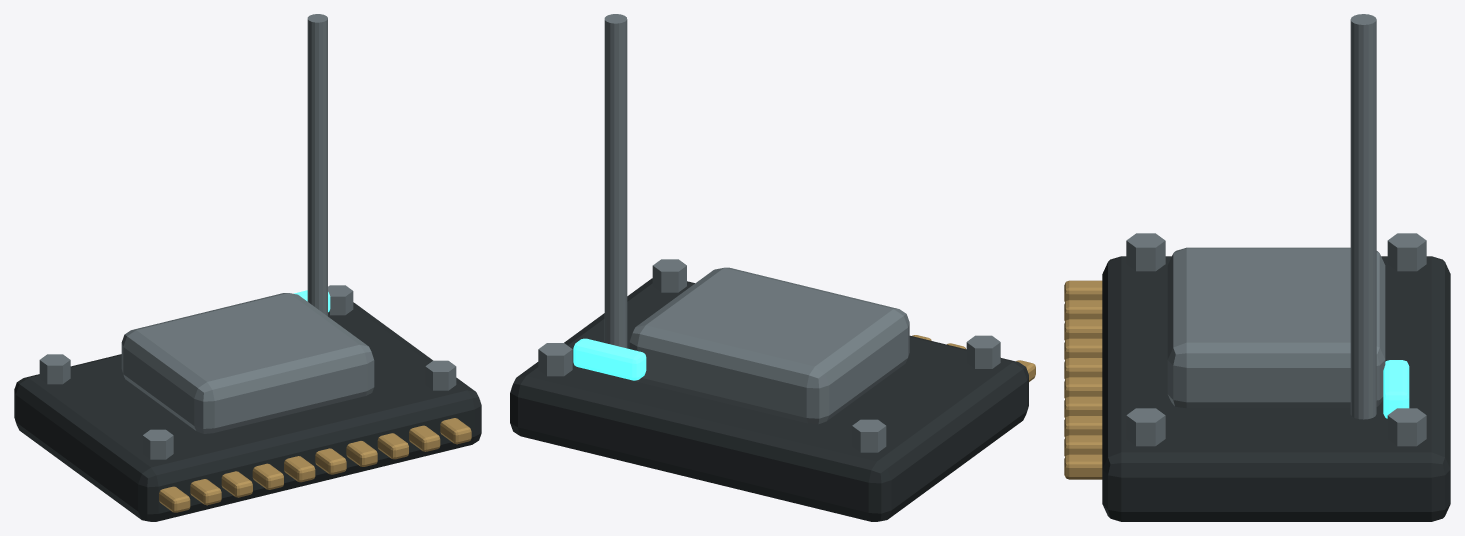
File: internal_comm_module.glb
3 renders of one model, left to right at view 1: azimuth 30°, elevation 25°; view 2: azimuth 150°, elevation 25°; view 3: azimuth 270°, elevation 25°, orthographic. The views are drawn at different scales.
Visible parts, largest first — view 1: Cube, Cube.001, Cylinder.004, Cylinder, Cylinder.001, Cylinder.002, Cylinder.003, Cube.002, Cube.004, Cube.005, Cube.009, Cube.003 (+5 smaller); view 2: Cube, Cube.001, Cylinder.004, Cube.012, Cylinder.001, Cylinder.002, Cylinder, Cylinder.003; view 3: Cube, Cube.001, Cylinder.004, Cylinder, Cylinder.003, Cylinder.002, Cylinder.001, Cube.012, Cube.011, Cube.002, Cube.005, Cube.006 (+6 smaller).
Boxes of the visible parts, x1,y1,x2,y2 form: Cube: (14, 302, 481, 521); Cube.001: (121, 293, 374, 433); Cylinder.004: (307, 14, 327, 316); Cylinder: (142, 429, 173, 459); Cylinder.001: (39, 354, 70, 384); Cylinder.002: (425, 360, 456, 390); Cylinder.003: (328, 285, 353, 315); Cube.002: (159, 486, 190, 512); Cube.004: (221, 471, 252, 497); Cube.005: (252, 463, 283, 489); Cube.009: (377, 433, 408, 459); Cube.003: (190, 479, 221, 505); Cube: (510, 278, 1028, 521); Cube.001: (629, 267, 909, 424); Cylinder.004: (604, 14, 627, 348); Cube.012: (573, 338, 646, 380); Cylinder.001: (852, 419, 886, 452); Cylinder.002: (652, 259, 686, 292); Cylinder: (966, 335, 1000, 368); Cylinder.003: (538, 343, 572, 376); Cube: (1102, 256, 1450, 521); Cube.001: (1167, 247, 1385, 408); Cylinder.004: (1350, 14, 1376, 419); Cylinder: (1126, 233, 1165, 271); Cylinder.003: (1387, 408, 1426, 446); Cylinder.002: (1126, 408, 1165, 446); Cylinder.001: (1387, 233, 1426, 271); Cube.012: (1383, 360, 1409, 418); Cube.011: (1064, 454, 1102, 479); Cube.002: (1064, 280, 1102, 302); Cube.005: (1064, 338, 1102, 360); Cube.006: (1064, 358, 1102, 379).
Size of the model in its own units: 0.23 by 0.2375 by 0.1775.
